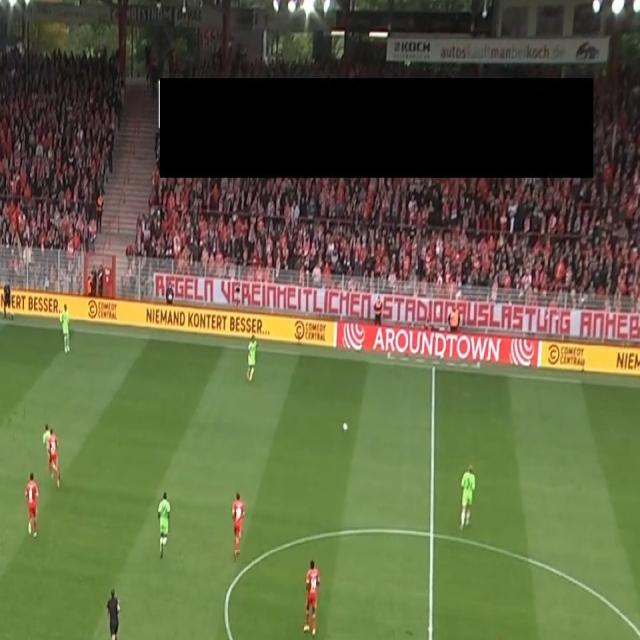ball: (341, 420, 349, 434)
